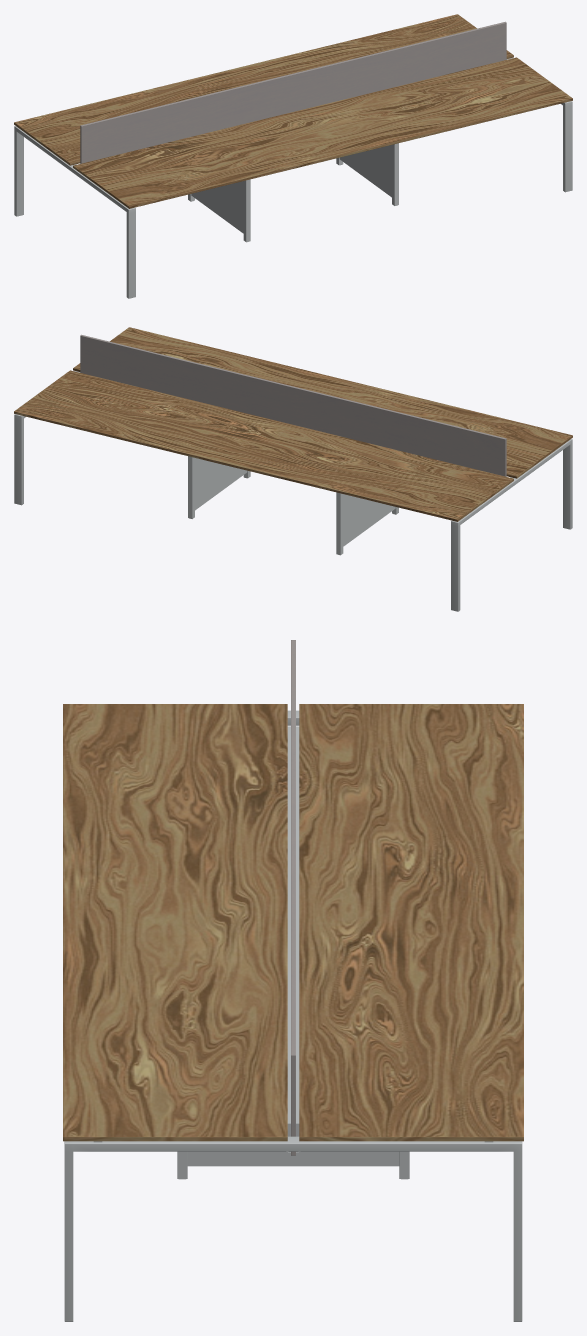
File: shared_office_desk.glb
The picture shows the model from 3 angles, top to bottom: view 1: azimuth 30°, elevation 25°; view 2: azimuth 150°, elevation 25°; view 3: azimuth 270°, elevation 25°; orthographic projection. The views are drawn at different scales.
Visible parts, largest first — view 1: Object_2; view 2: Object_2; view 3: Object_2.
Part boxes in pixels (x1,y1,x2,y2): Object_2: (14,14,572,298); Object_2: (14,327,572,611); Object_2: (63,640,523,1321).
Bounding box in the file's own units: 600 × 167 × 270.
1 material, 1 textured.
